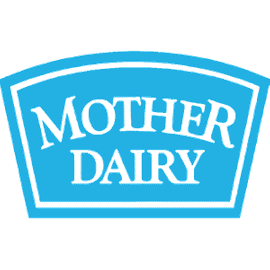Mother_Dairy: (1, 41, 270, 226)
